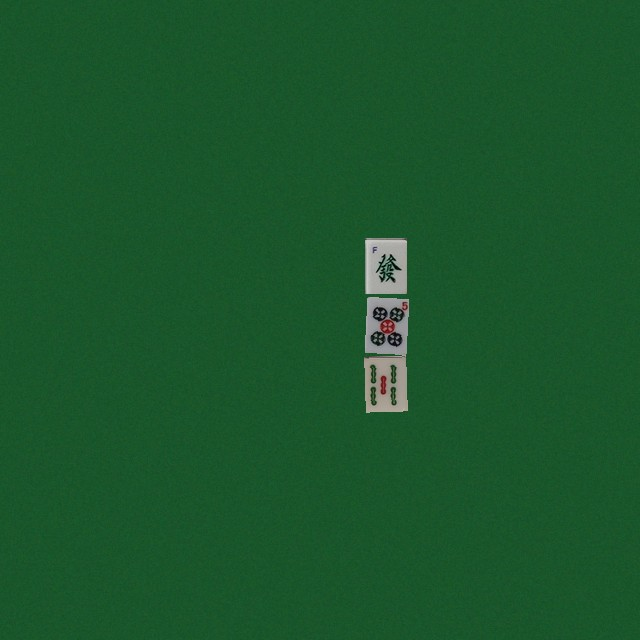tile: (364, 237, 406, 293), (364, 296, 406, 352), (364, 355, 406, 411)
